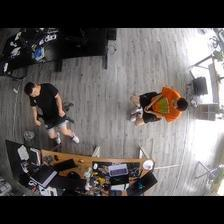normal: (22, 81, 81, 143), (127, 85, 187, 129)
